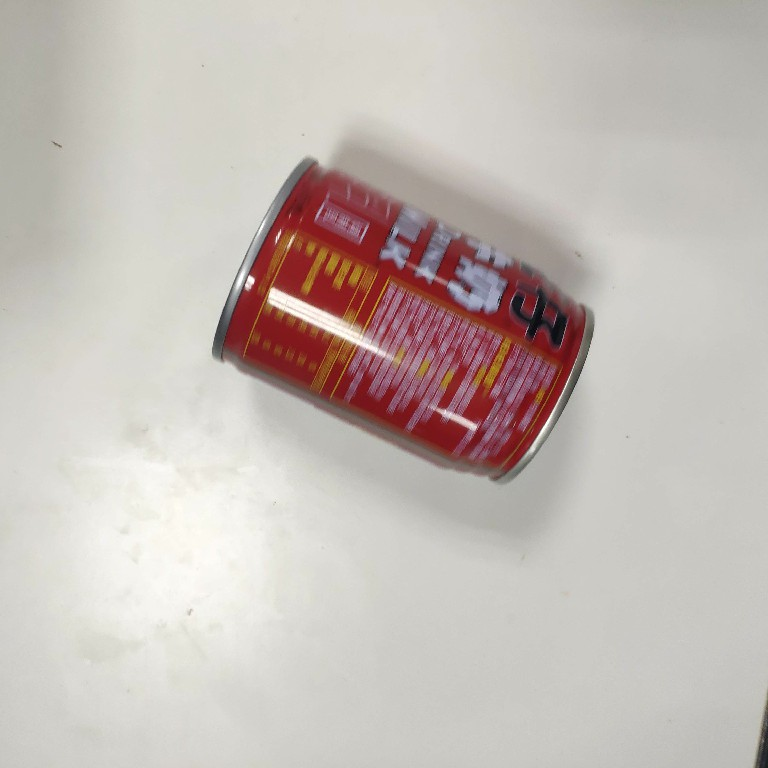can: (210, 155, 598, 491)
